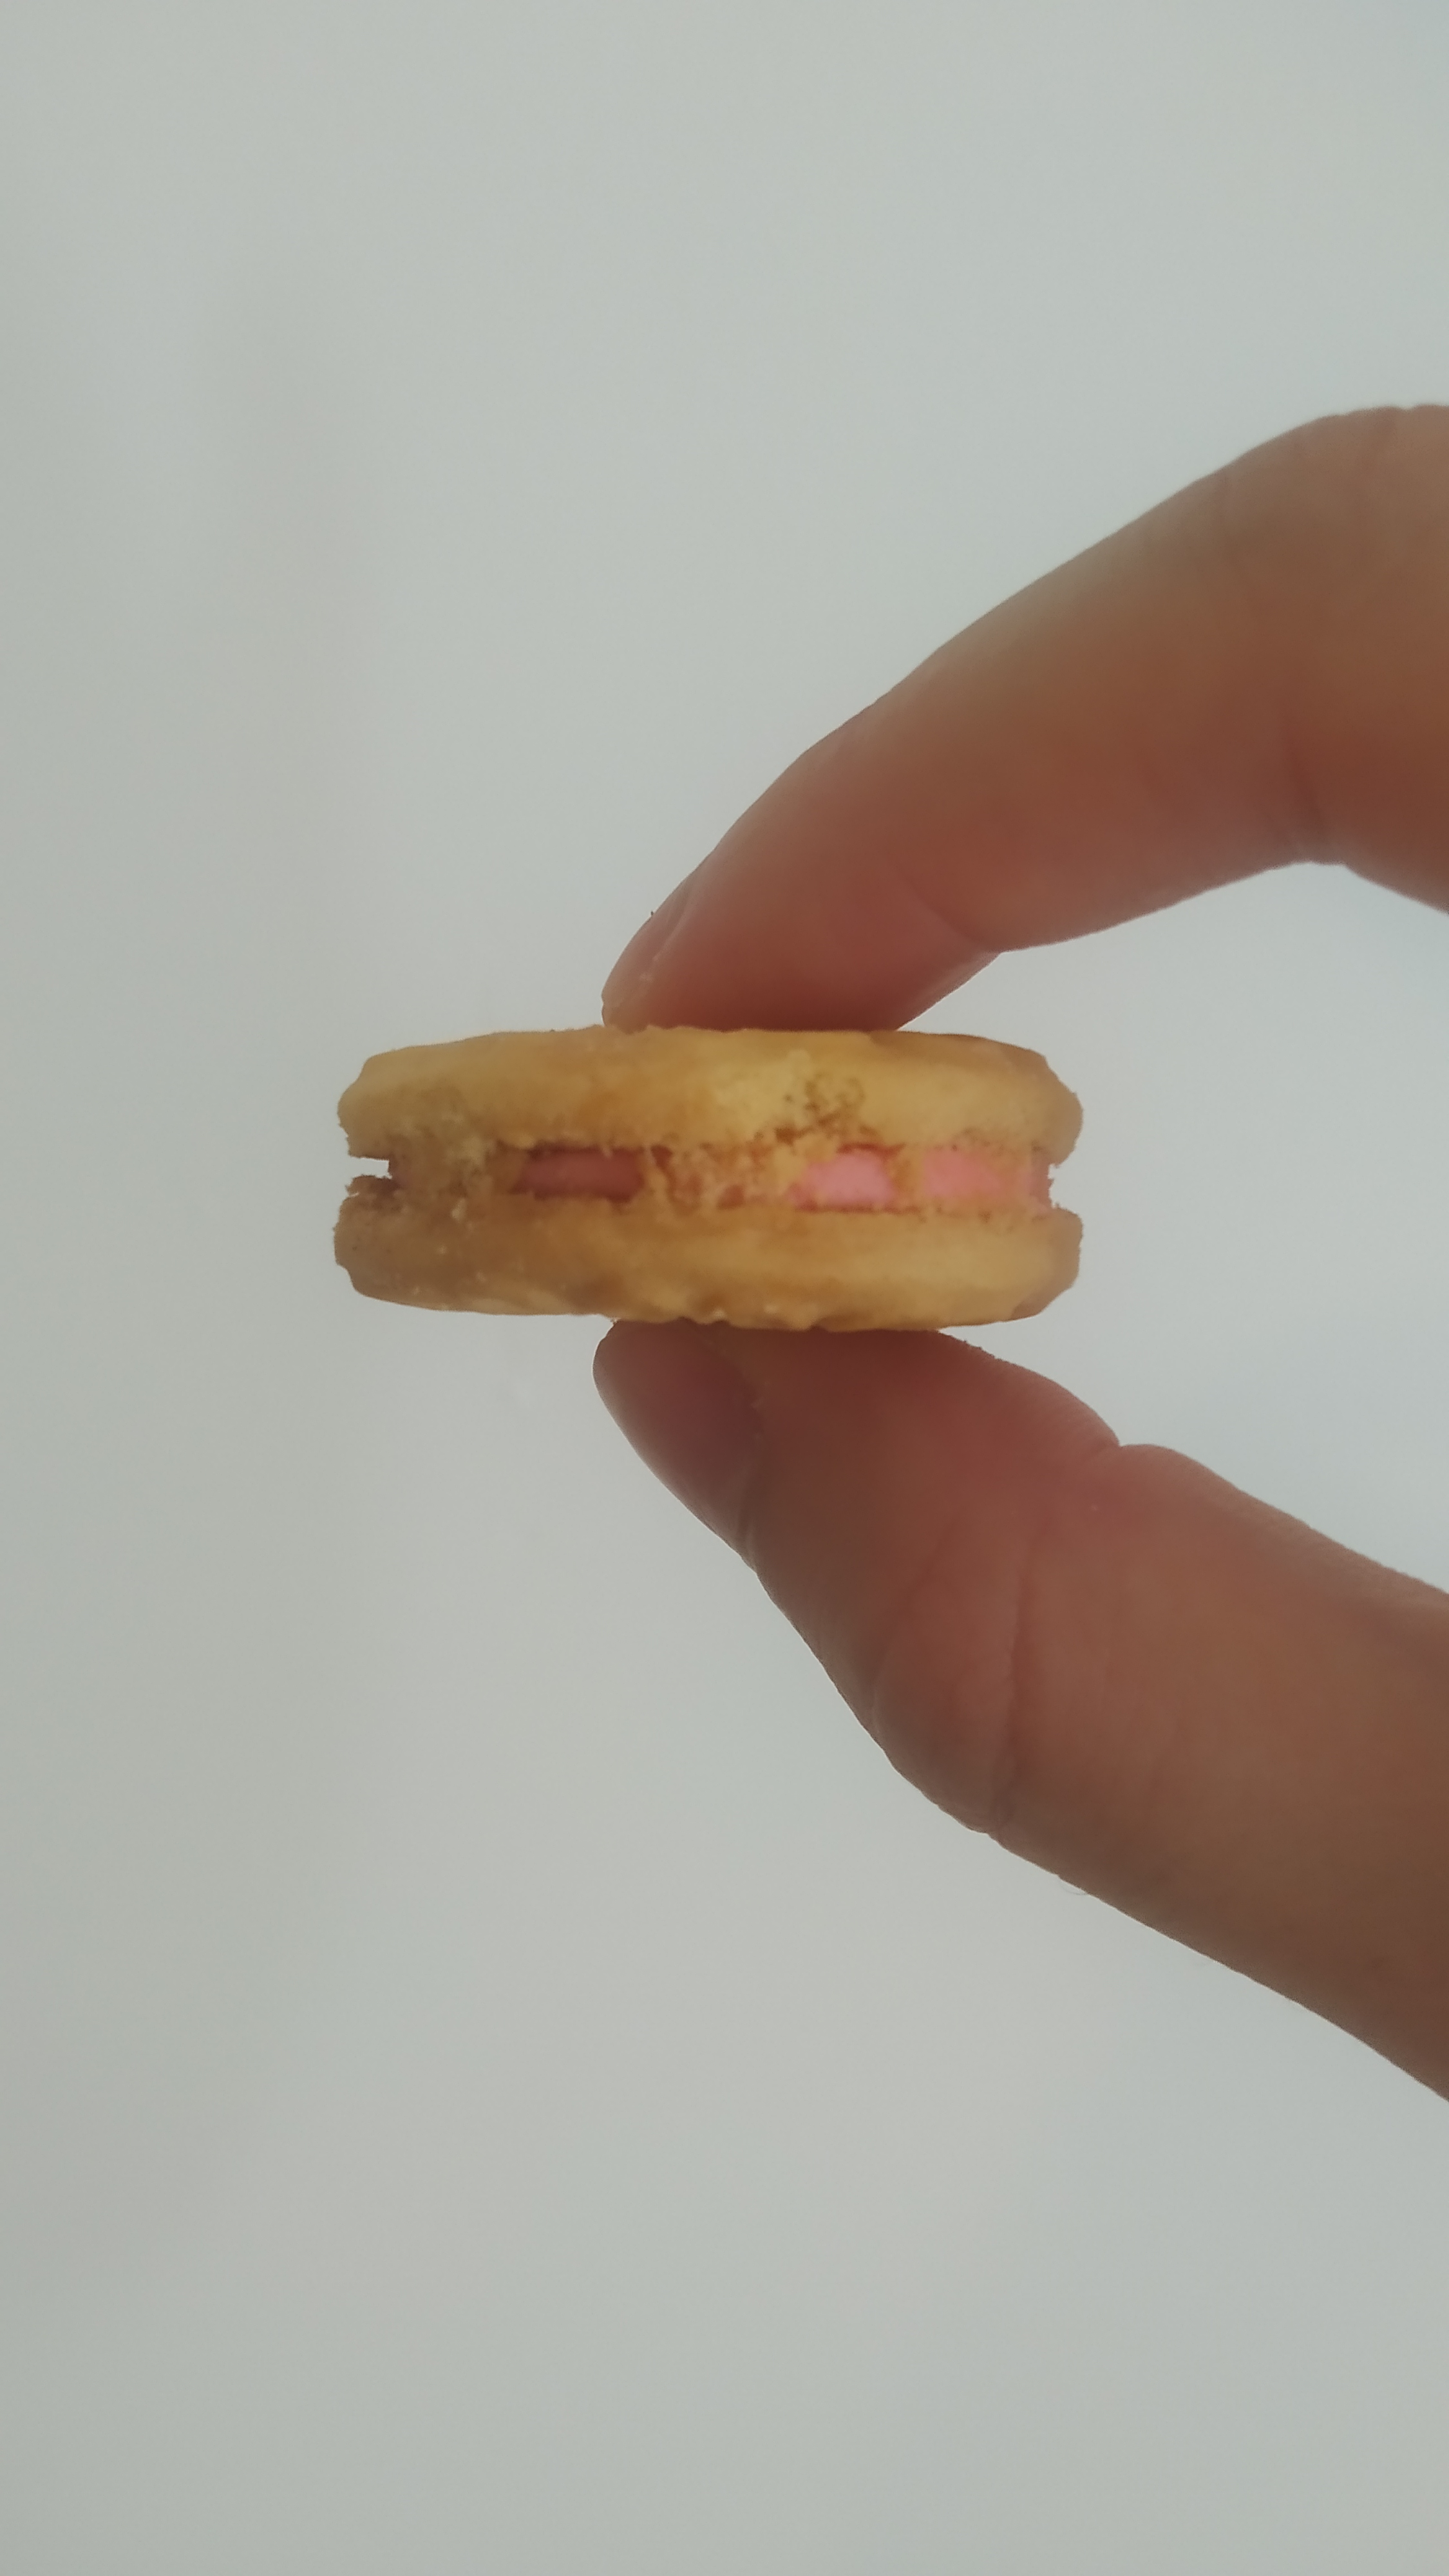lulu: (333, 1024, 1085, 1332)
